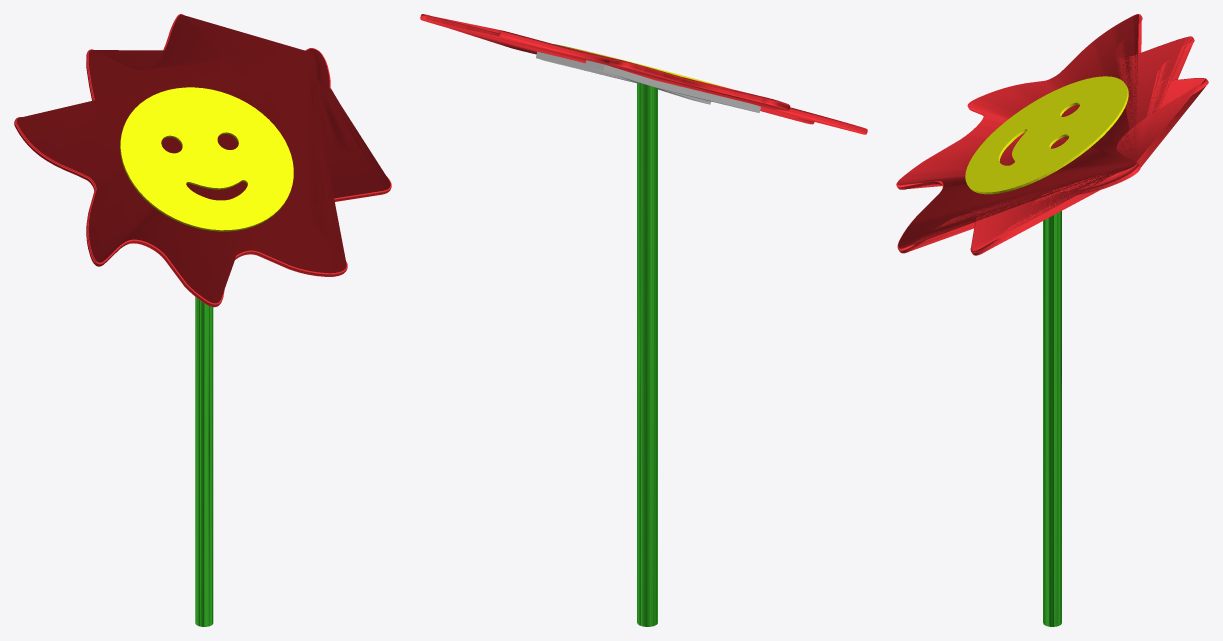
The picture shows the model from 3 angles, left to right: view 1: azimuth 30°, elevation 25°; view 2: azimuth 150°, elevation 25°; view 3: azimuth 270°, elevation 25°; orthographic projection. The views are drawn at different scales.
Parts seen in each view (by area): view 1: D_73; view 2: D_73; view 3: D_73.
Boxes of the visible parts, x1,y1,x2,y2 form: D_73: (14, 14, 391, 626); D_73: (420, 14, 867, 626); D_73: (896, 14, 1208, 626).
Bounding box in the file's own units: 118 × 201 × 100.
